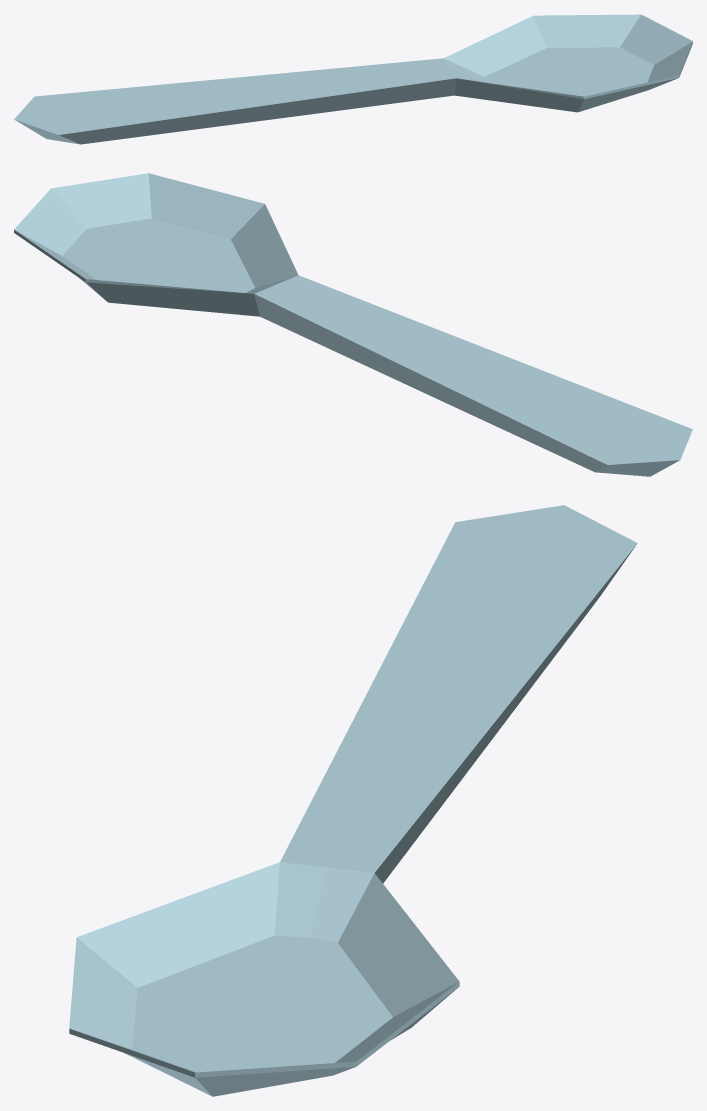
File: Kitchen_Spoon3.fbx
3 views of the same model, one above another, from view 1: azimuth 30°, elevation 25°; view 2: azimuth 150°, elevation 25°; view 3: azimuth 270°, elevation 25° (orthographic). The views are drawn at different scales.
Parts seen in each view (by area): view 1: Kitchen_Spoon3; view 2: Kitchen_Spoon3; view 3: Kitchen_Spoon3.
Part boxes in pixels (x1=…): Kitchen_Spoon3: x1=14, y1=14, x2=692, y2=144; Kitchen_Spoon3: x1=14, y1=173, x2=692, y2=476; Kitchen_Spoon3: x1=69, y1=505, x2=637, y2=1096.
Bounding box in the file's own units: 19.11 × 1.05 × 8.02.
